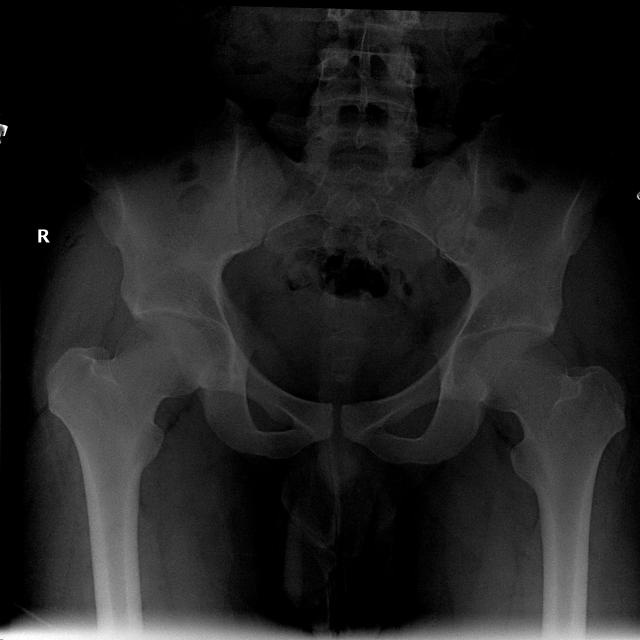normal-left: (472, 330, 626, 569)
normal-right: (46, 317, 211, 530)
